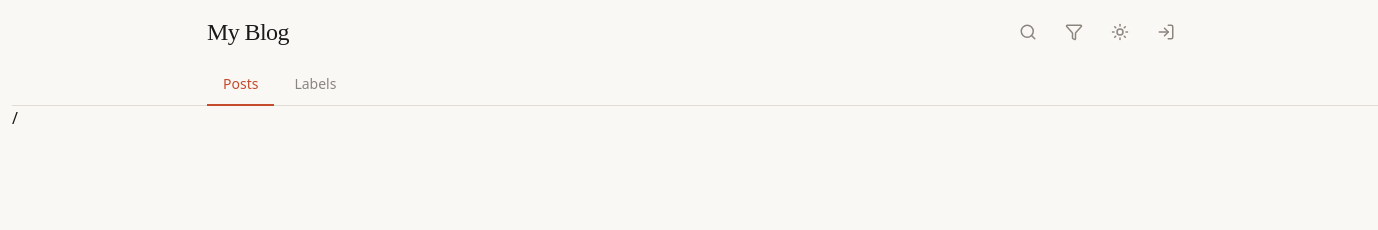
Test: Header › live search dropdown › shows dropdown after typing 2+ chars with debounce
Step 1. Click the button named "Search" → (1028, 32), box [1011,15,1045,49]
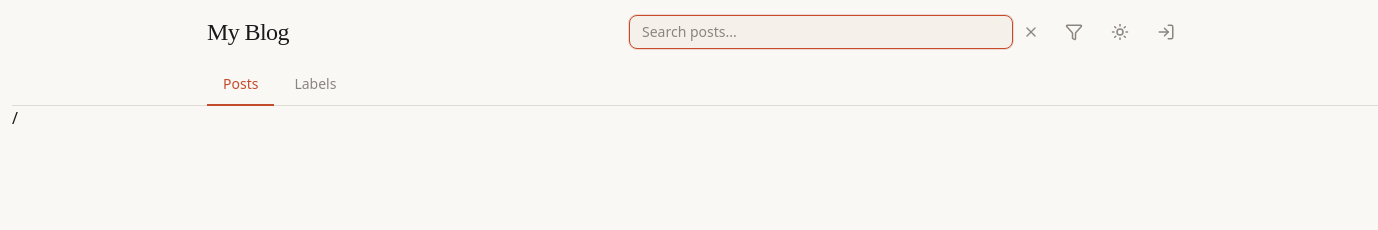
Step 2. Type "he" into the dropdown with placeholder "Search posts..." → (821, 32), box [629,15,1013,49]
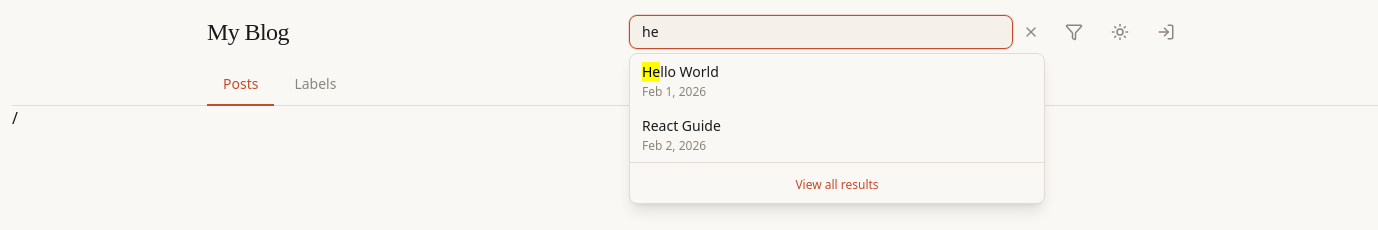
Result: the list is shown at [642,62,721,154]
